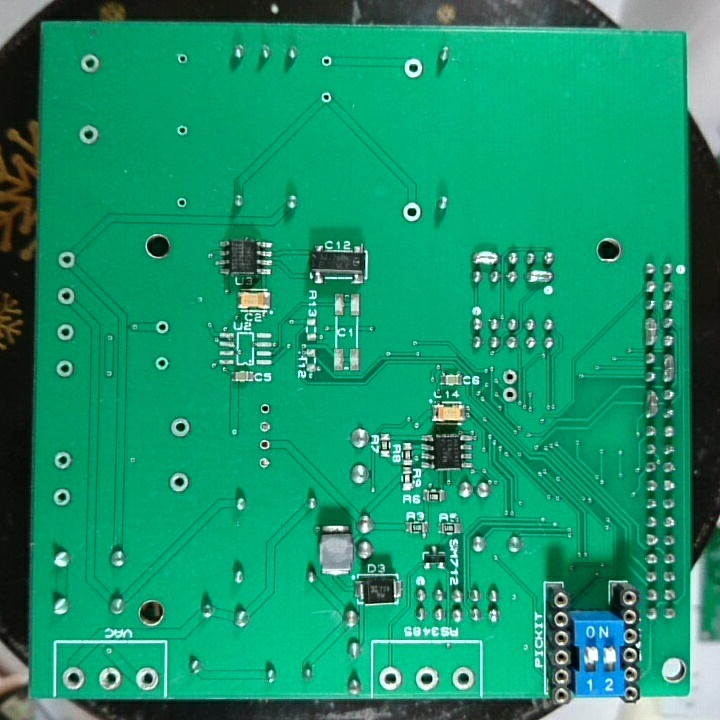F: (60, 663, 88, 695), (377, 663, 404, 692), (97, 665, 124, 692), (450, 664, 476, 692), (400, 55, 425, 83), (134, 666, 160, 692), (400, 199, 423, 227), (413, 665, 437, 691), (167, 469, 191, 495), (51, 449, 74, 473), (168, 416, 191, 440), (79, 52, 102, 76), (55, 249, 78, 272), (77, 123, 100, 146), (50, 487, 73, 509), (53, 358, 76, 380), (54, 286, 77, 307), (54, 323, 76, 344), (152, 318, 172, 338), (500, 385, 519, 405), (152, 353, 170, 373), (174, 120, 191, 140), (173, 193, 191, 211), (318, 89, 336, 107), (501, 368, 519, 386), (174, 50, 191, 69), (319, 53, 334, 72), (257, 437, 272, 453), (257, 419, 272, 435), (257, 455, 271, 471), (258, 400, 271, 417)
P: (660, 349, 677, 387), (524, 267, 554, 287), (642, 386, 659, 420), (470, 249, 502, 267), (642, 315, 659, 347)
